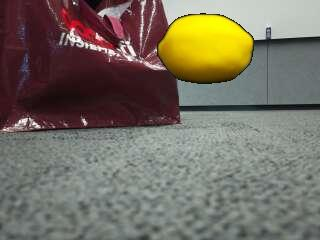lemon: (158, 14, 252, 84)
